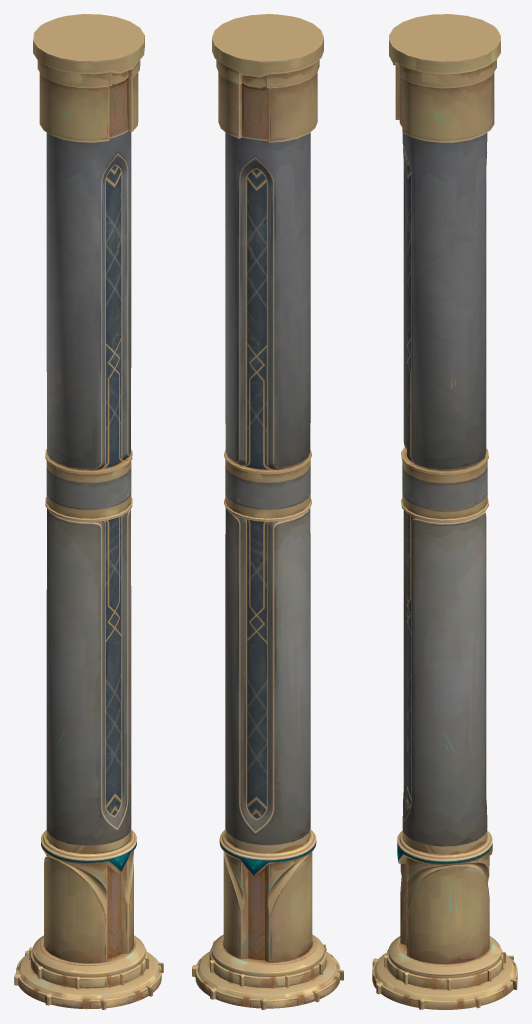
The model's file is Asgard_Pillar.obj.
3 renders of one model, left to right at view 1: azimuth 30°, elevation 25°; view 2: azimuth 150°, elevation 25°; view 3: azimuth 270°, elevation 25°, orthographic.
Visible parts, largest first — view 1: SM_AsgardE01Pillar006Ah.002; view 2: SM_AsgardE01Pillar006Ah.002; view 3: SM_AsgardE01Pillar006Ah.002.
Boxes of the visible parts, bbox=[...] form: SM_AsgardE01Pillar006Ah.002: bbox=[14, 14, 163, 1009]; SM_AsgardE01Pillar006Ah.002: bbox=[192, 14, 343, 1009]; SM_AsgardE01Pillar006Ah.002: bbox=[372, 14, 517, 1009].
Bounding box in the file's own units: 1.13 × 8.1 × 1.13.
